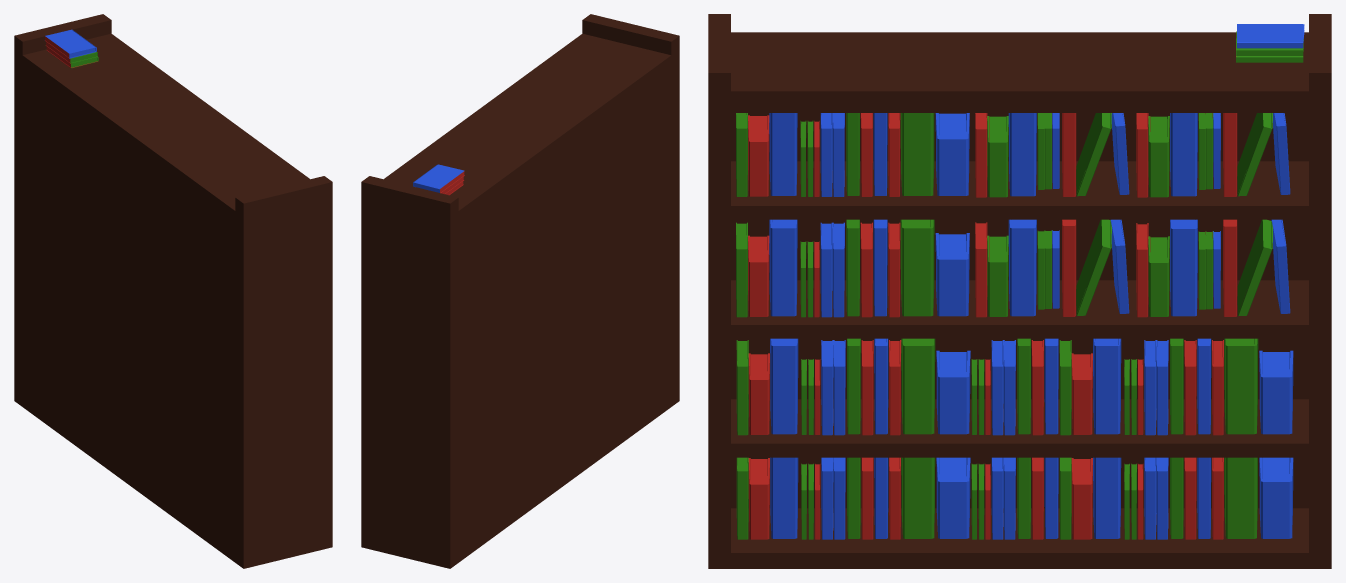
File: Estante.fbx
3 views of the same model, side by side, from view 1: azimuth 30°, elevation 25°; view 2: azimuth 150°, elevation 25°; view 3: azimuth 270°, elevation 25° (orthographic). The views are drawn at different scales.
Parts seen in each view (by area): view 1: Estante_Vazia, livros; view 2: Estante_Vazia, livros; view 3: livros, Estante_Vazia, Livro Separado.
Part boxes in pixels (left/top/right/bottom): Estante_Vazia: left=14, top=14, right=332, bottom=568; livros: left=44, top=29, right=98, bottom=68; Estante_Vazia: left=361, top=14, right=679, bottom=568; livros: left=413, top=164, right=464, bottom=195; livros: left=736, top=24, right=1304, bottom=539; Estante_Vazia: left=708, top=14, right=1331, bottom=568; Livro Separado: left=1062, top=219, right=1076, bottom=316.
Size of the model in its own units: 30.64 by 121 by 137.
